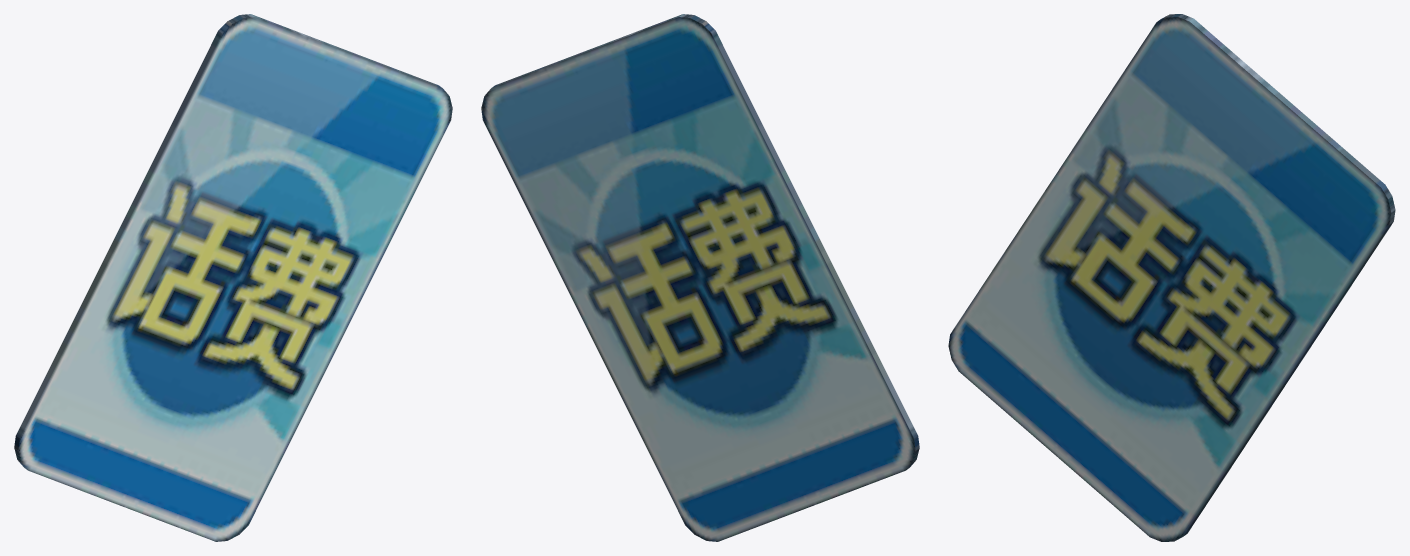
File: huafeiquan.fbx
3 views of the same model, side by side, from view 1: azimuth 30°, elevation 25°; view 2: azimuth 150°, elevation 25°; view 3: azimuth 330°, elevation 25° (orthographic).
Parts seen in each view (by area): view 1: huafeijuan; view 2: huafeijuan; view 3: huafeijuan.
Boxes of the visible parts, box(x1,y1,x2,y2) form: huafeijuan: box(14, 14, 452, 541); huafeijuan: box(481, 14, 919, 541); huafeijuan: box(948, 14, 1395, 541).
Size of the model in its own units: 1.38 by 1.58 by 0.0226.
Materials: 1 (1 with a texture image).
